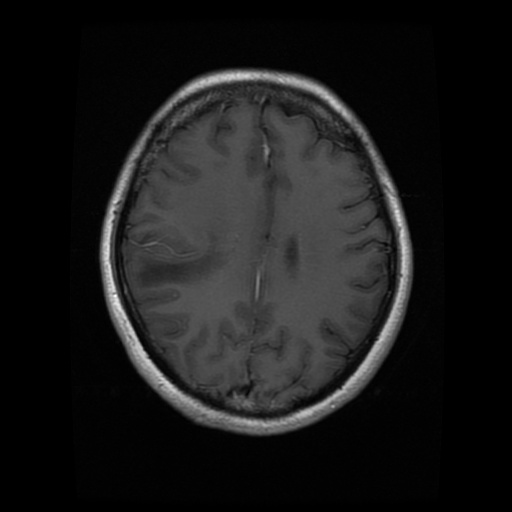glioma: (140, 238, 229, 285)
